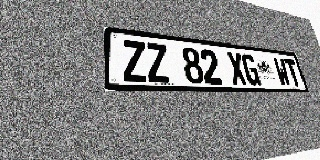2: (199, 49, 222, 84)
8: (181, 47, 205, 84)
G: (240, 53, 261, 85)
T: (283, 58, 302, 86)
W: (272, 57, 292, 86)
X: (226, 52, 248, 85)
Z: (121, 40, 148, 82), (145, 42, 170, 83)
